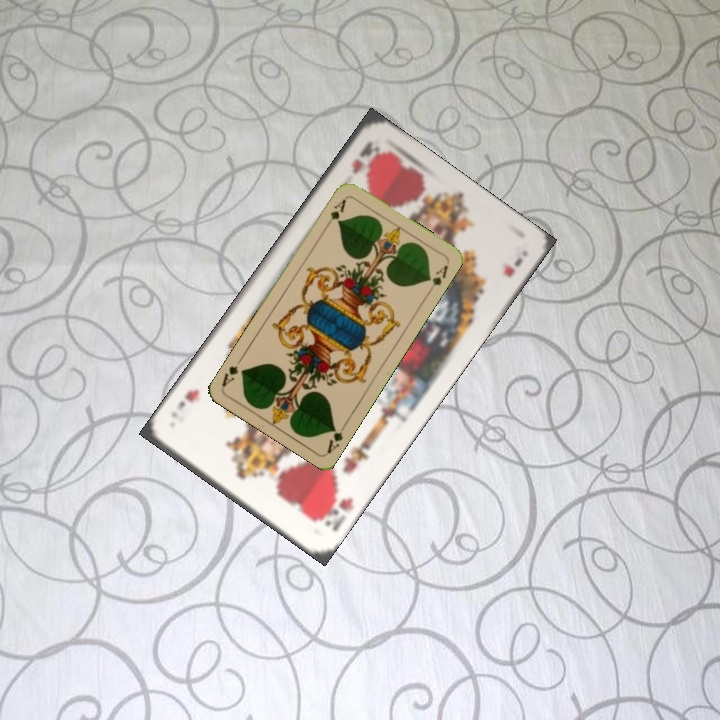GA: (323, 418, 350, 456), (321, 195, 349, 230)
HK: (312, 485, 356, 534), (347, 137, 382, 176)
